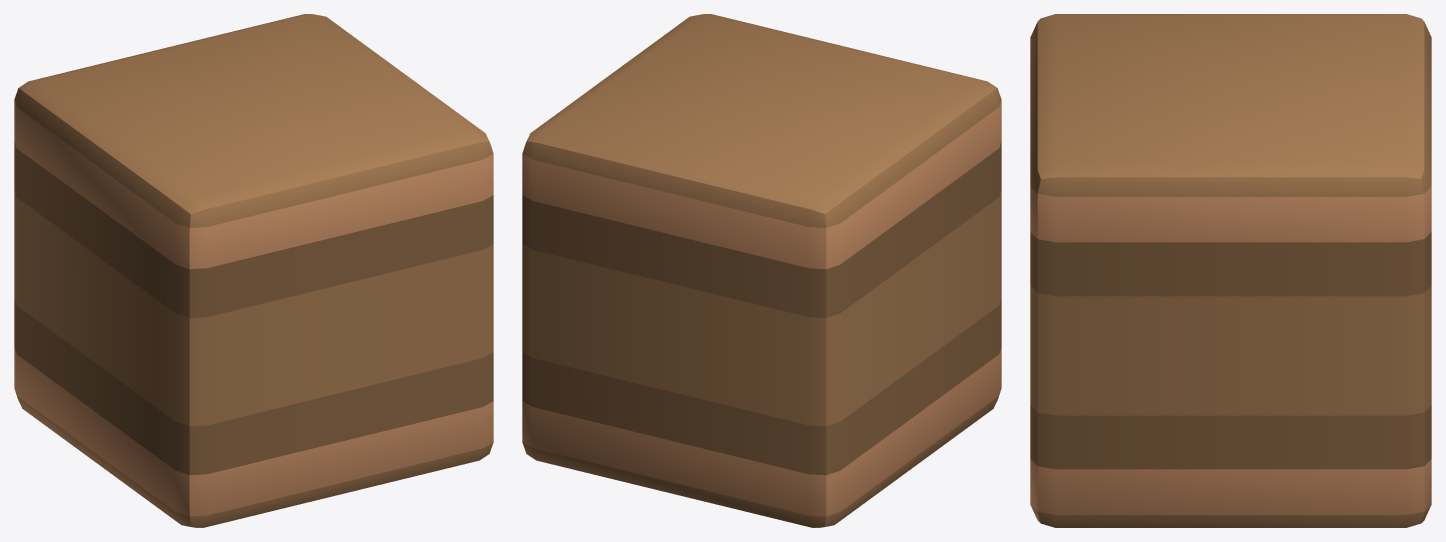
Rendered from quaternius-platformer-game-cube-dirt-single.glb.
3 renders of one model, left to right at view 1: azimuth 30°, elevation 25°; view 2: azimuth 150°, elevation 25°; view 3: azimuth 270°, elevation 25°, orthographic. The views are drawn at different scales.
Visible parts, largest first — view 1: Cube_Dirt_Single; view 2: Cube_Dirt_Single; view 3: Cube_Dirt_Single.
Part boxes in pixels (left/top/right/bottom): Cube_Dirt_Single: left=14, top=14, right=493, bottom=527; Cube_Dirt_Single: left=522, top=14, right=1001, bottom=527; Cube_Dirt_Single: left=1030, top=14, right=1431, bottom=527.
Size of the model in its own units: 2 by 2 by 2.
